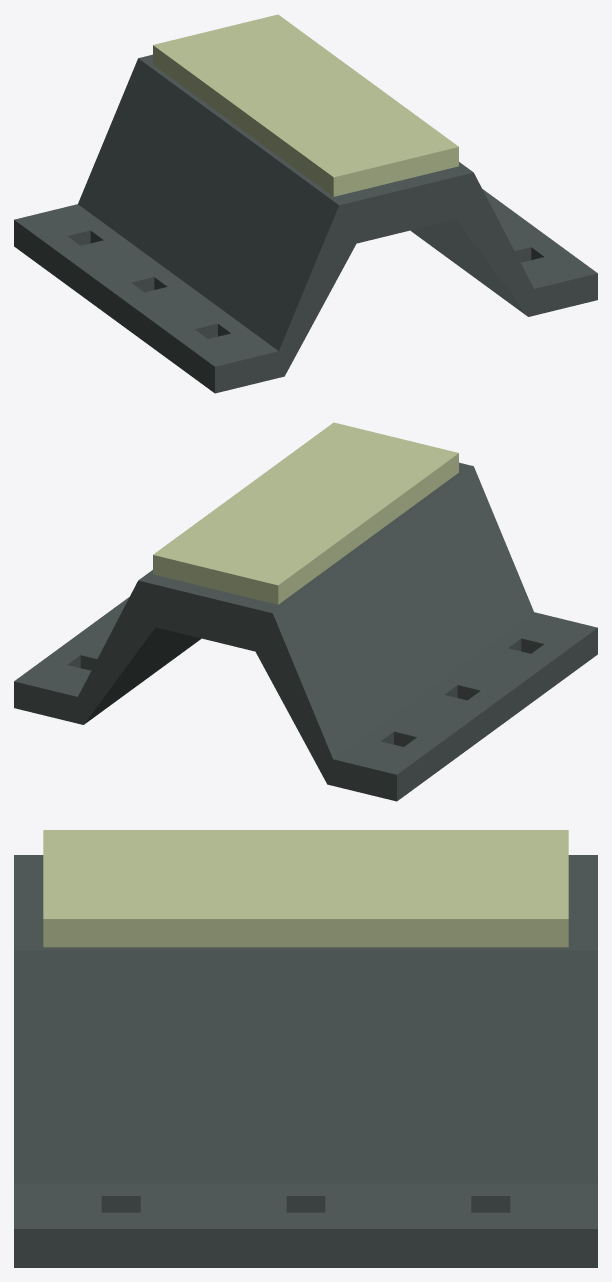
3 renders of one model, top to bottom at view 1: azimuth 30°, elevation 25°; view 2: azimuth 150°, elevation 25°; view 3: azimuth 270°, elevation 25°, orthographic. The views are drawn at different scales.
Visible parts, largest first — view 1: WholeHollowArchWithBothSixPortMountingFlanges, WholeContinuousCrownWearPad; view 2: WholeHollowArchWithBothSixPortMountingFlanges, WholeContinuousCrownWearPad; view 3: WholeHollowArchWithBothSixPortMountingFlanges, WholeContinuousCrownWearPad.
Boxes of the visible parts, box(x1,y1,x2,y2) form: WholeHollowArchWithBothSixPortMountingFlanges: box(14, 54, 597, 393); WholeContinuousCrownWearPad: box(153, 14, 458, 196); WholeHollowArchWithBothSixPortMountingFlanges: box(14, 462, 597, 801); WholeContinuousCrownWearPad: box(153, 422, 458, 604); WholeHollowArchWithBothSixPortMountingFlanges: box(14, 855, 597, 1267); WholeContinuousCrownWearPad: box(43, 830, 568, 947).
Bounding box in the file's own units: 3.3 × 1.46 × 3.
